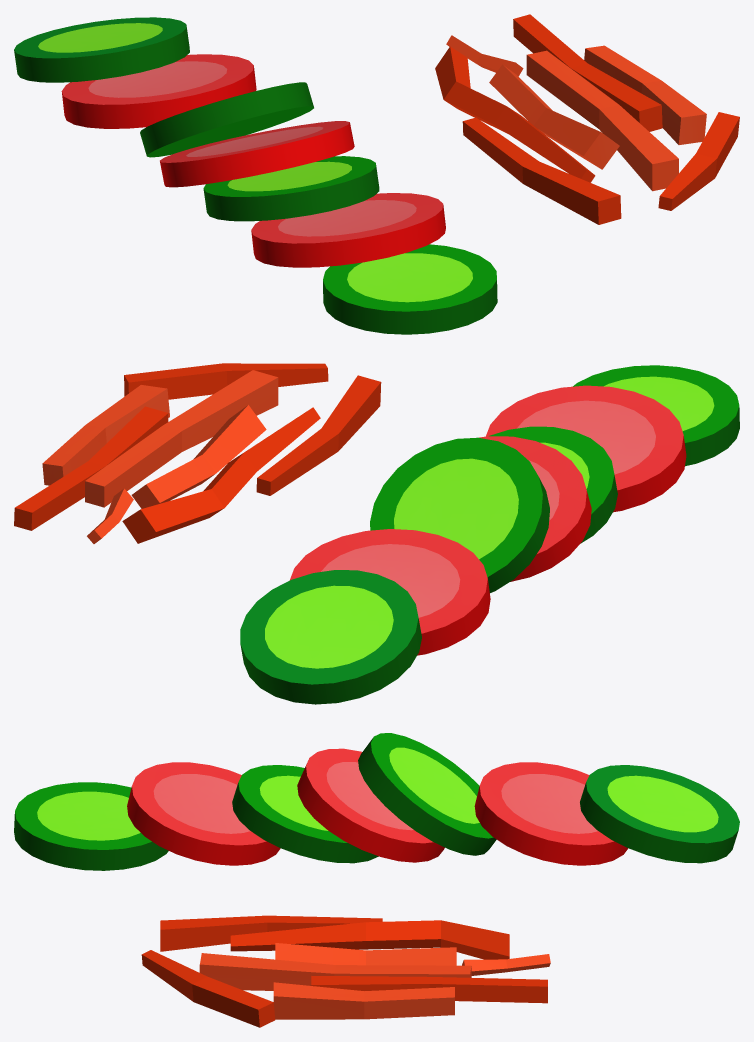
File: Cucumbers and carrots.fbx
3 views of the same model, one above another, from view 1: azimuth 30°, elevation 25°; view 2: azimuth 150°, elevation 25°; view 3: azimuth 270°, elevation 25° (orthographic). The views are drawn at different scales.
Parts seen in each view (by area): view 1: Carrots.002, Carrots.013, Circle.021, Circle.009, Circle.007, Carrots.004, Circle.023, Circle.027, Circle.019, Circle.008, Carrots.003, Circle.025 (+16 smaller); view 2: Circle.024, Circle.028, Circle.015, Carrots.002, Circle.014, Carrots.004, Circle.011, Circle.016, Circle.026, Circle.018, Carrots.013, Carrots.011 (+16 smaller); view 3: Carrots.004, Carrots.012, Carrots.002, Circle.028, Carrots.011, Circle.015, Circle.018, Circle.026, Circle.007, Carrots.013, Carrots.006, Circle.024 (+17 smaller).
Boxes of the visible parts, x1,y1,x2,y2 form: Carrots.002: (526, 50, 678, 191); Carrots.013: (462, 117, 621, 224); Circle.021: (160, 122, 354, 187); Circle.009: (251, 205, 445, 267); Circle.007: (347, 253, 472, 302); Carrots.004: (435, 46, 595, 182); Circle.023: (140, 82, 313, 155); Circle.027: (14, 25, 189, 82); Circle.019: (203, 165, 379, 221); Circle.008: (323, 280, 497, 334); Carrots.003: (489, 64, 619, 169); Circle.025: (61, 65, 256, 128); Circle.024: (394, 458, 518, 559); Circle.028: (265, 585, 393, 668); Circle.015: (240, 570, 418, 684); Carrots.002: (85, 370, 278, 507); Circle.014: (370, 437, 542, 577); Carrots.004: (122, 407, 320, 543); Circle.011: (486, 385, 683, 490); Circle.016: (289, 529, 487, 633); Circle.026: (321, 544, 460, 617); Circle.018: (517, 400, 655, 474); Carrots.013: (256, 375, 381, 495); Carrots.011: (14, 406, 168, 530); Carrots.004: (230, 920, 509, 959); Carrots.012: (273, 982, 454, 1019); Carrots.002: (199, 953, 471, 990); Circle.028: (607, 775, 718, 832); Carrots.011: (311, 976, 547, 1003); Circle.015: (586, 765, 739, 843); Circle.018: (153, 774, 250, 833); Circle.026: (501, 774, 597, 833); Circle.007: (37, 791, 140, 840); Carrots.013: (160, 915, 382, 951); Carrots.006: (141, 950, 275, 1027); Circle.024: (389, 747, 479, 823).
Bounding box in the file's own units: 126 × 27.1 × 171.
1 material, 1 textured.
